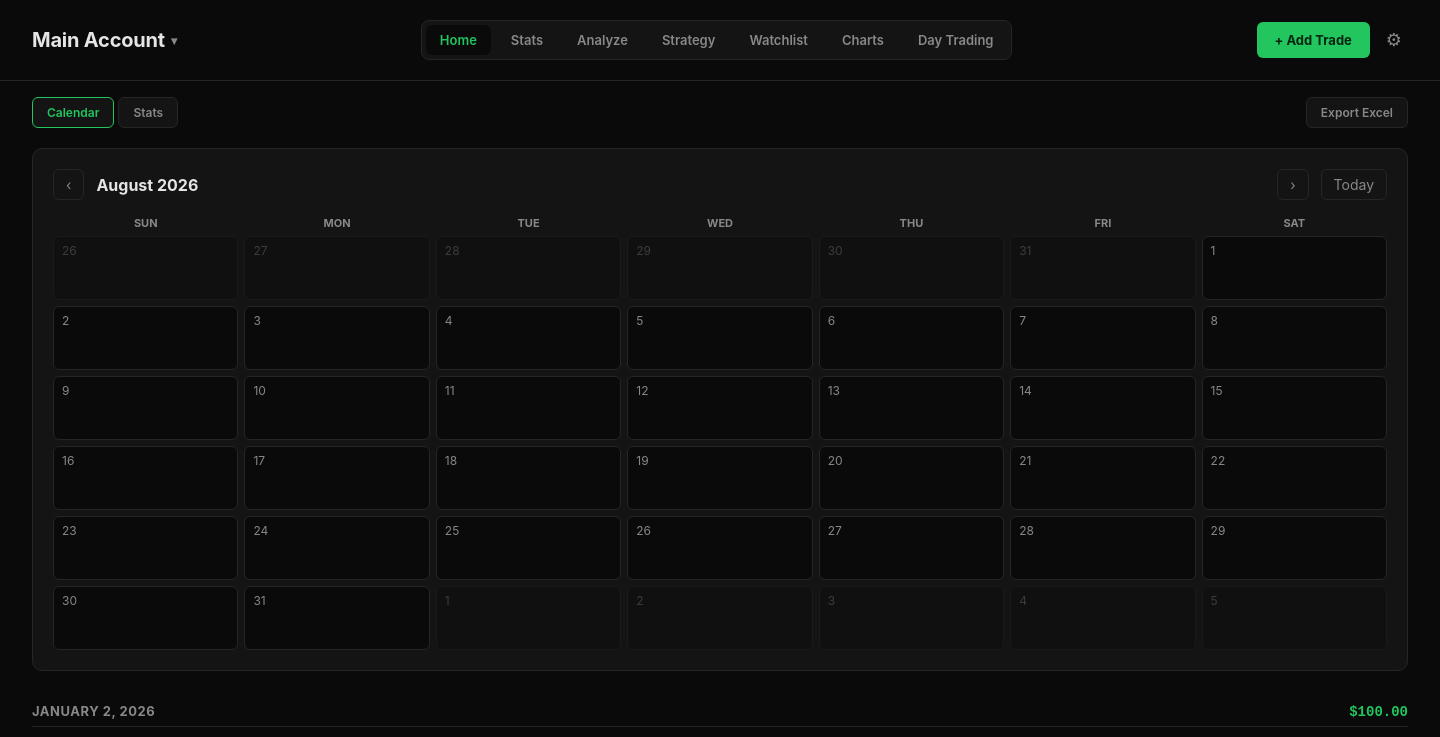
Scenario: TradesPage › filters stats by the date range on the Stats tab
This screenshot has width=1440, height=737.
Click the button "Stats" at (148, 112), box [118,97,178,128]
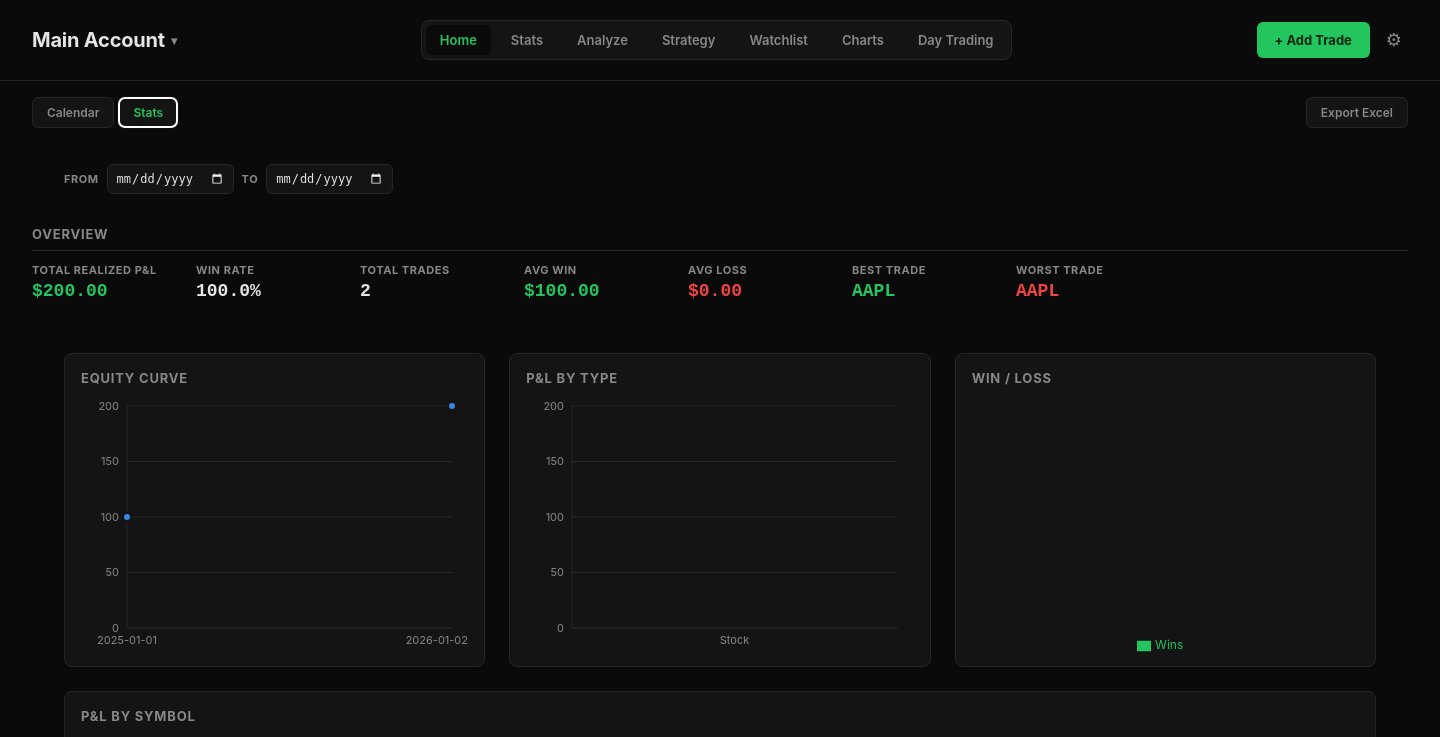
Type "2026-01-01" into the date field labelled "From" at (170, 179), box [107,164,234,194]
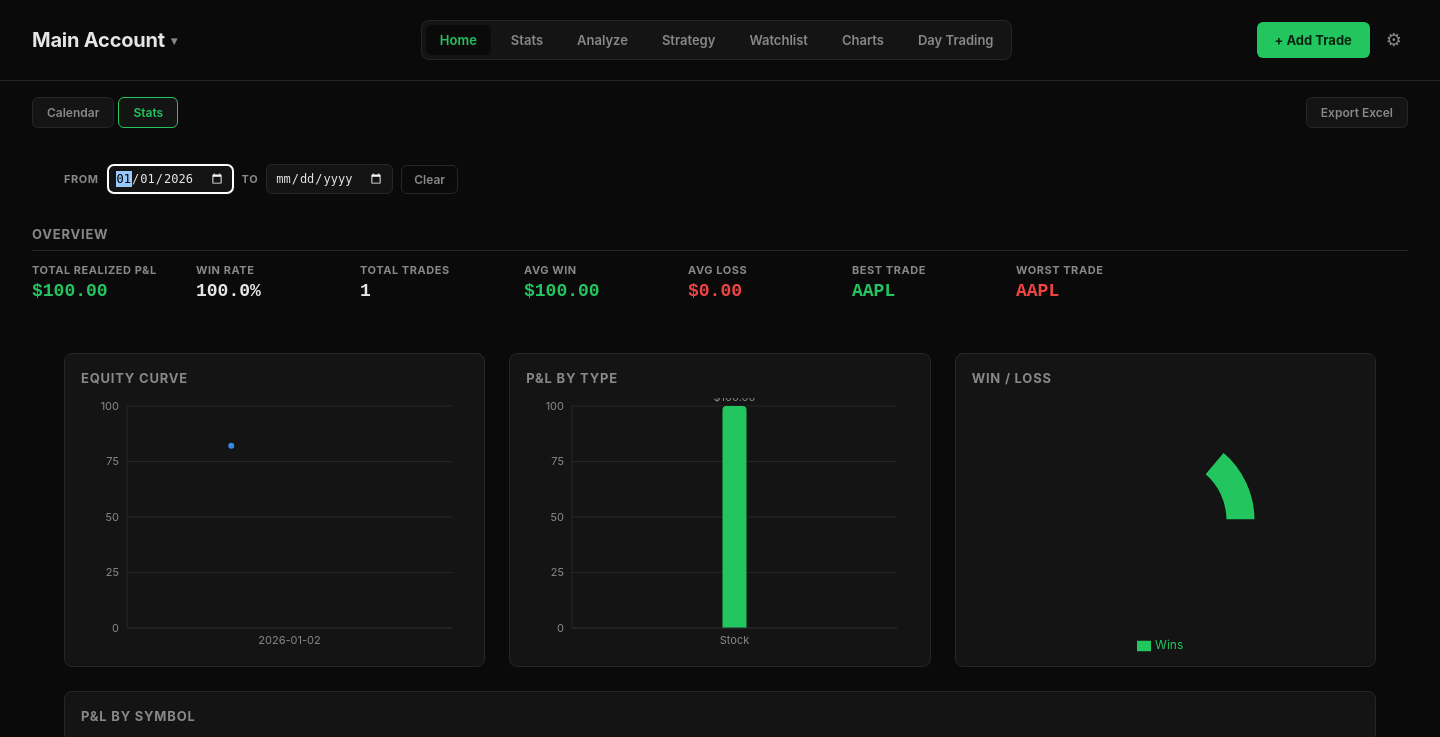
expect the text "Total Trades" is shown: met, box [360,263,450,277]
expect the text "1" is shown: met, box [360,281,371,301]
